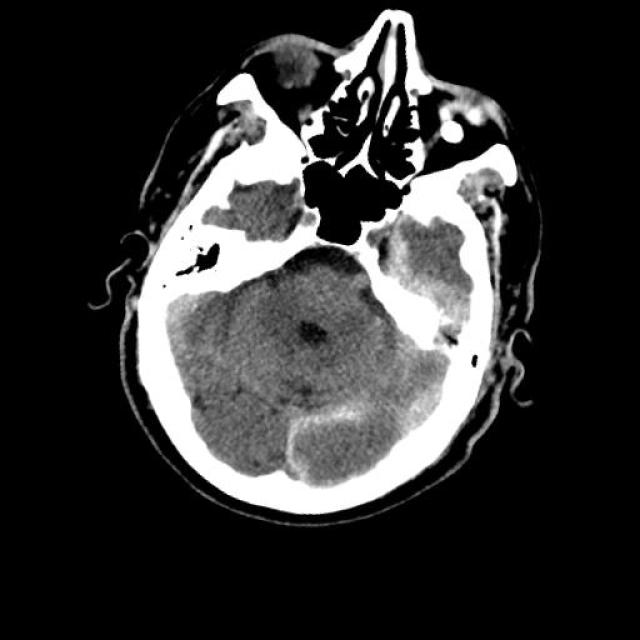Subdural: (339, 206, 516, 362), (222, 381, 366, 513)
